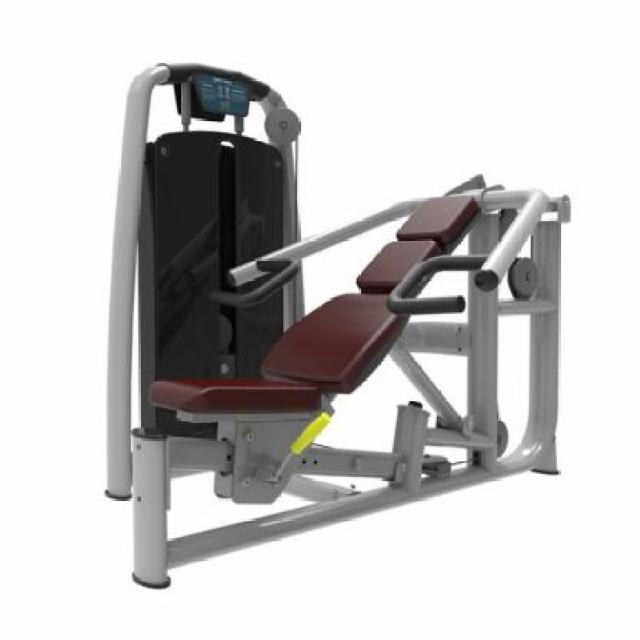shoulder press machine: (108, 62, 577, 592)
